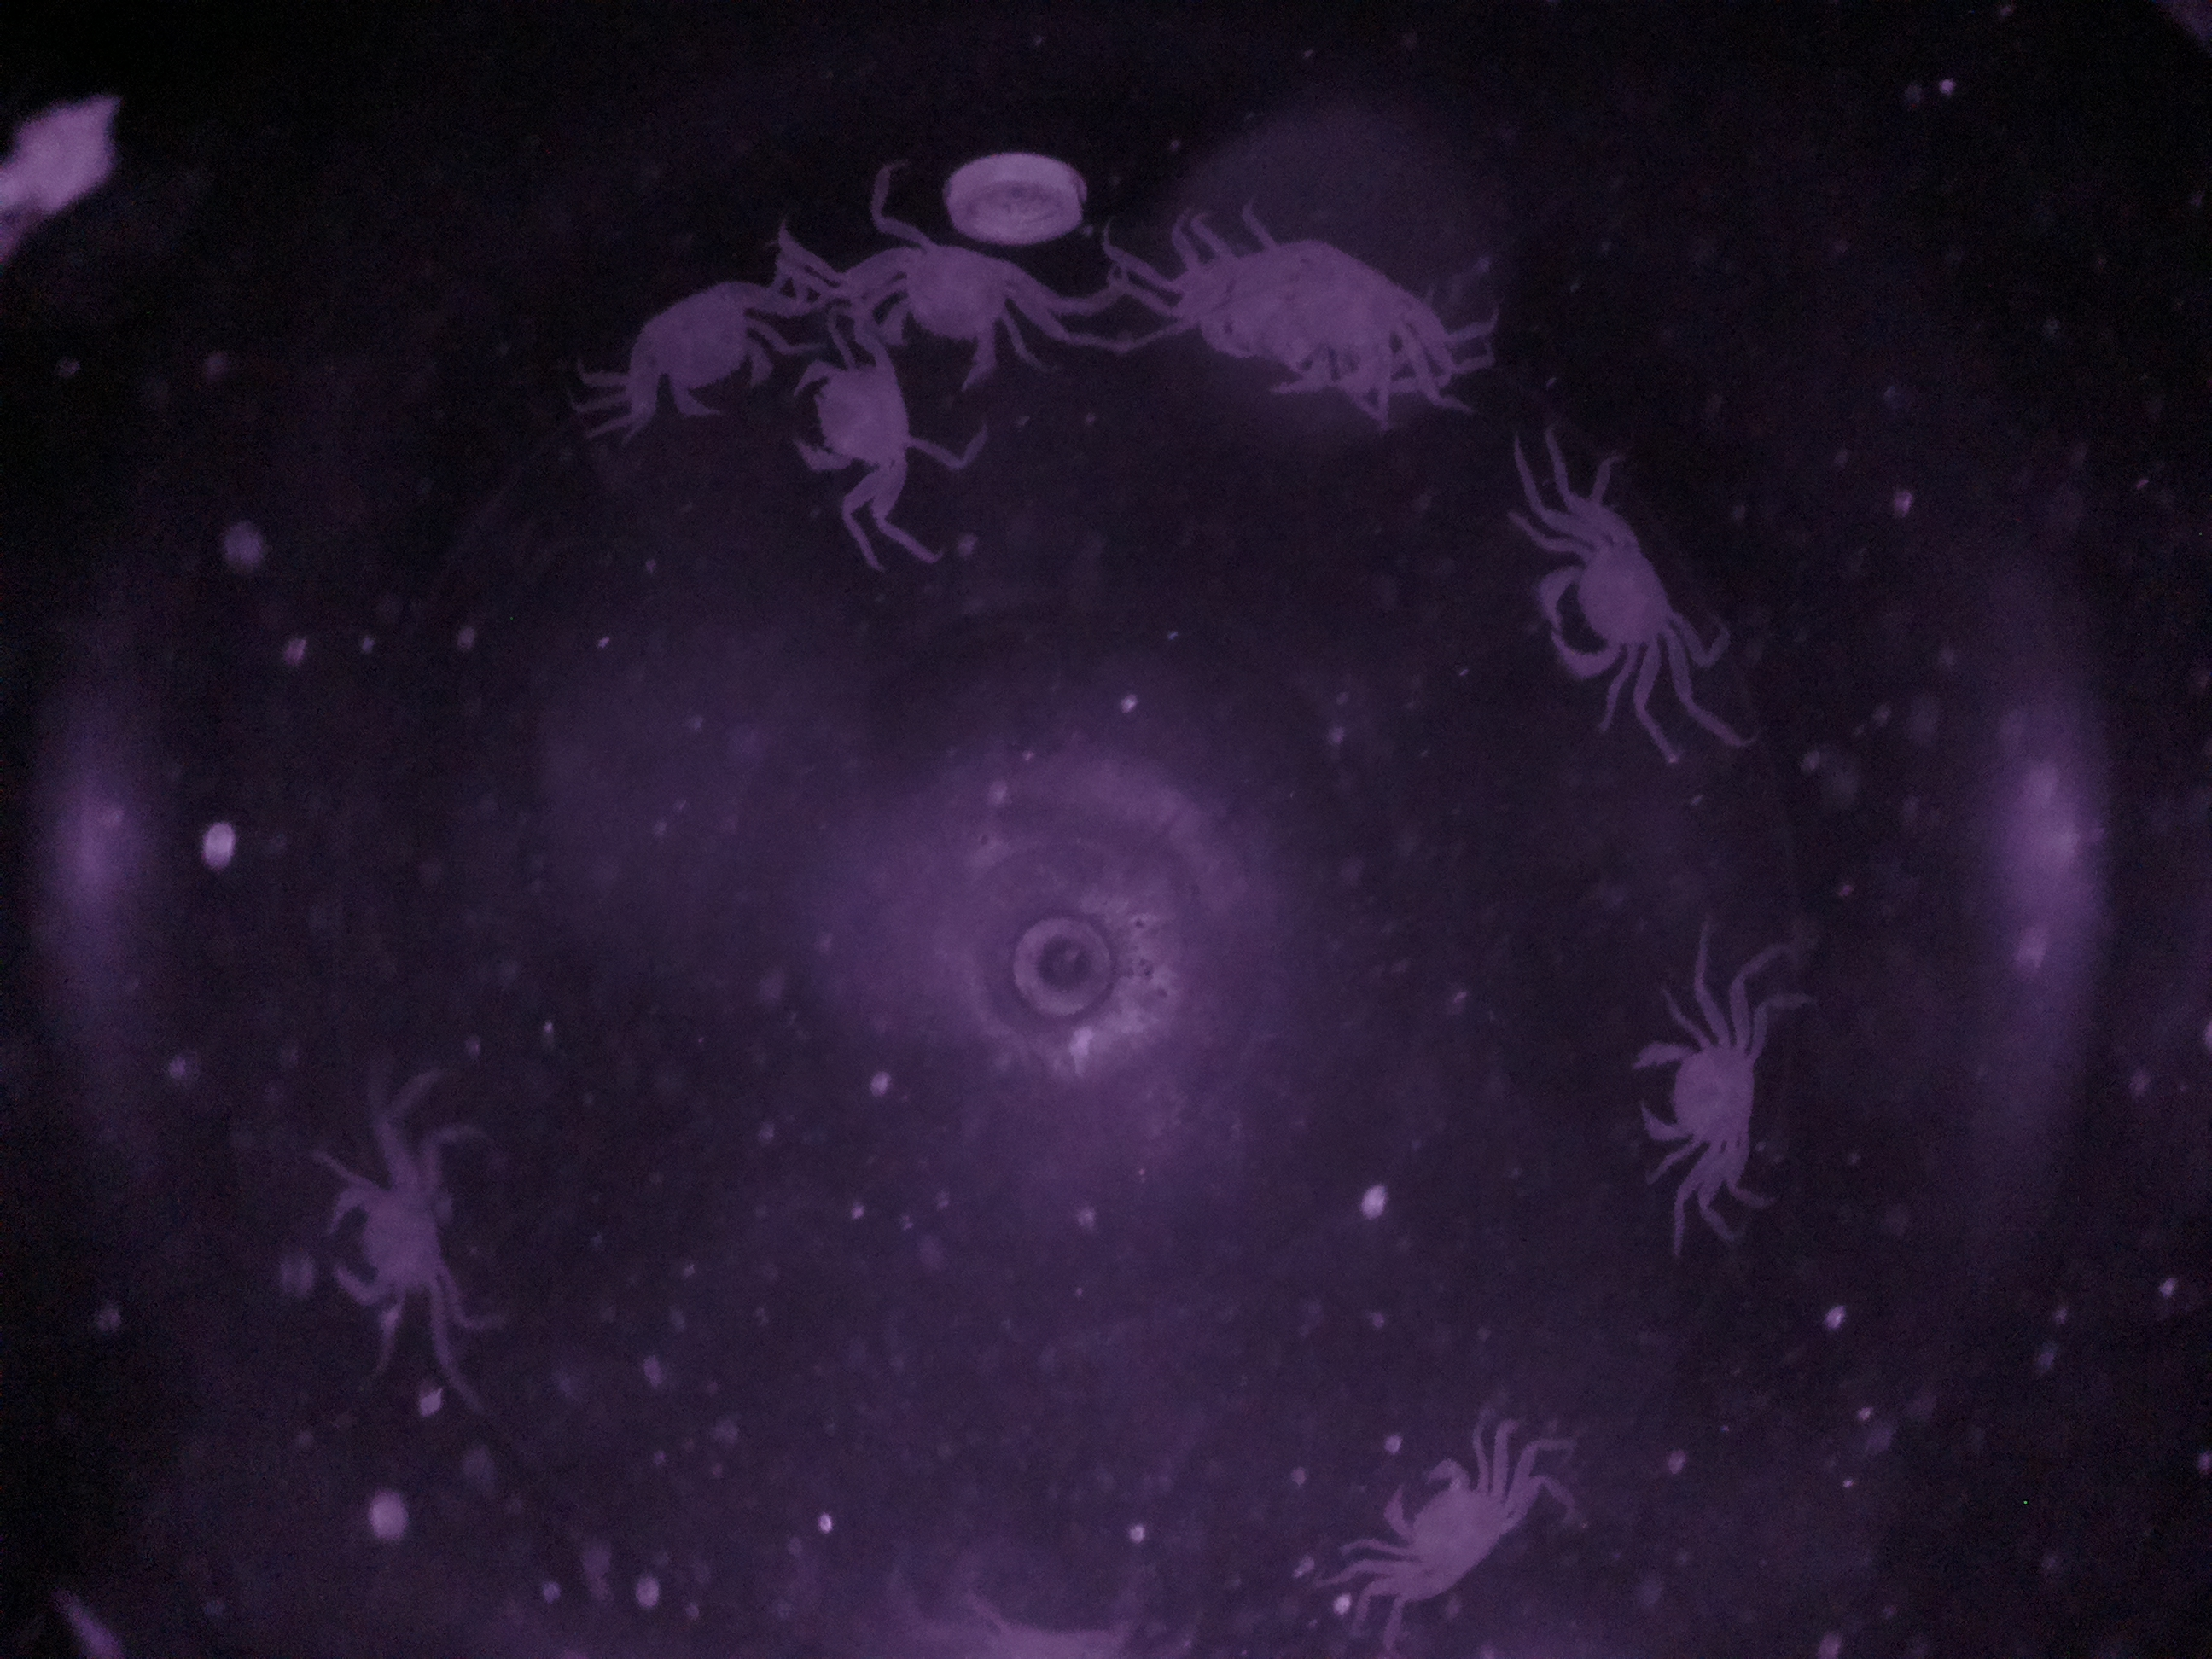Crab: (1522, 488, 1702, 711), (1352, 1432, 1545, 1631), (305, 1150, 493, 1347), (1611, 990, 1785, 1199), (777, 326, 939, 504), (618, 247, 775, 429)
